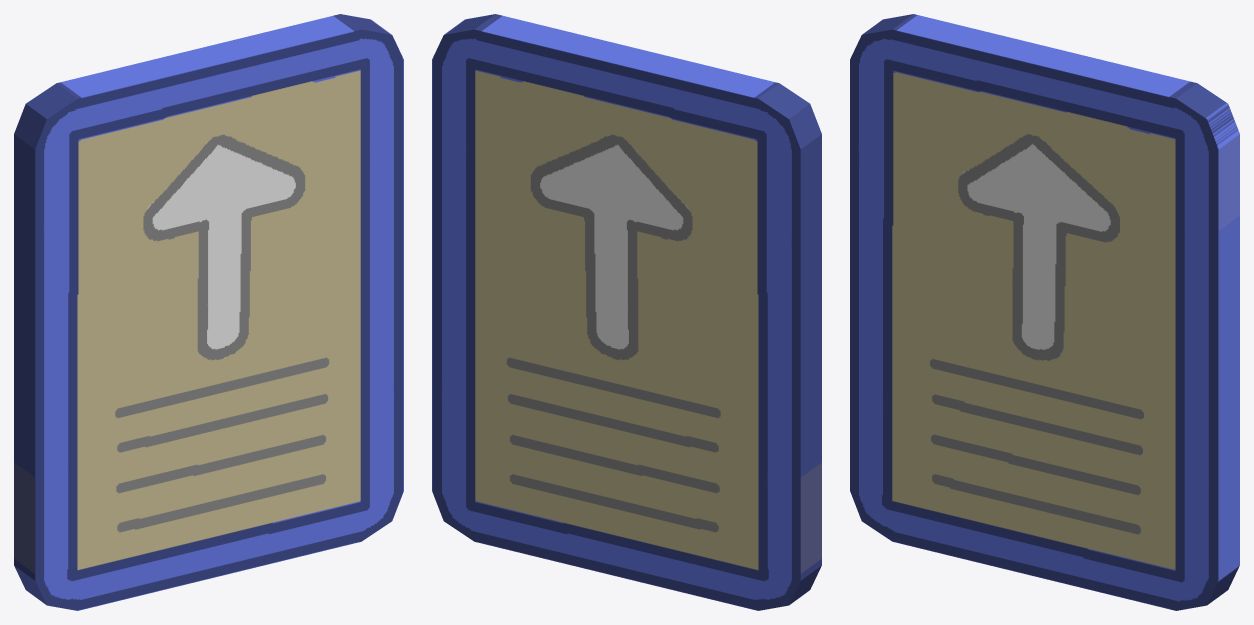
File: UpgradeToken.fbx
3 views of the same model, side by side, from view 1: azimuth 30°, elevation 25°; view 2: azimuth 150°, elevation 25°; view 3: azimuth 330°, elevation 25° (orthographic).
Parts seen in each view (by area): view 1: UpgradeToken; view 2: UpgradeToken; view 3: UpgradeToken.
Part boxes in pixels (x1,y1,x2,y2): UpgradeToken: (14, 14, 403, 610); UpgradeToken: (432, 14, 821, 610); UpgradeToken: (850, 14, 1239, 610).
Bounding box in the file's own units: 151 × 200 × 15.
Materials: 1 (1 with a texture image).
